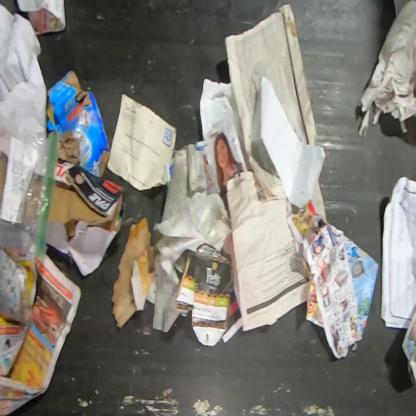cardboard: (46, 156, 125, 277), (46, 69, 110, 177), (175, 244, 233, 346), (0, 247, 38, 323)
soft_plastic: (0, 118, 58, 259)
